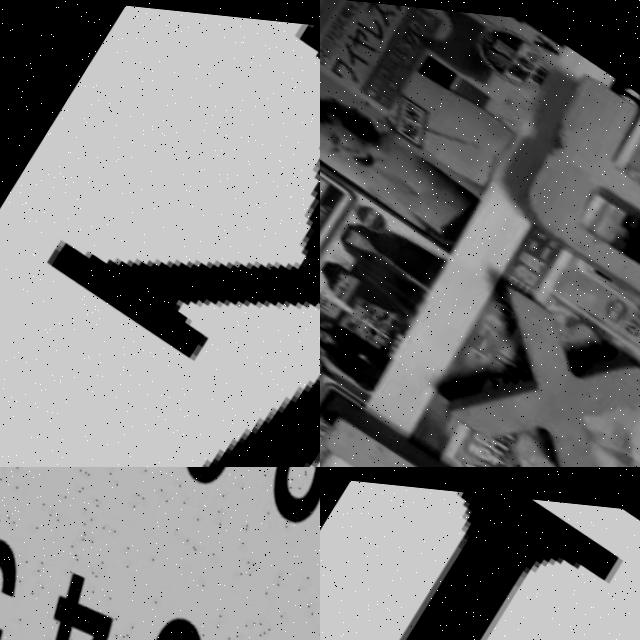3: (51, 566, 280, 640)
4: (0, 526, 187, 640)
5: (0, 499, 87, 640)
8: (196, 467, 320, 574)
9: (106, 467, 320, 533)
K: (0, 0, 320, 467)
L: (320, 387, 530, 467)
N: (320, 467, 640, 640)
R: (500, 53, 640, 320)
X: (440, 267, 640, 467)
